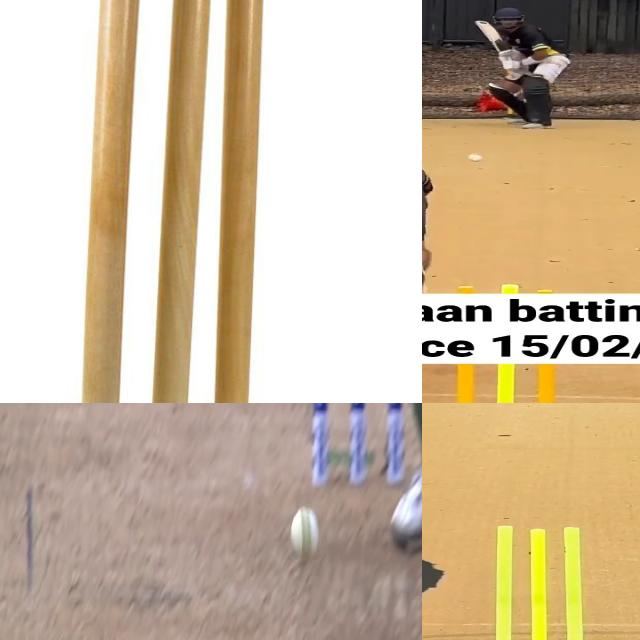Cricket ball: (290, 503, 321, 560), (468, 153, 484, 162)
Stumps: (80, 0, 270, 403), (473, 523, 606, 640), (439, 363, 569, 403)
